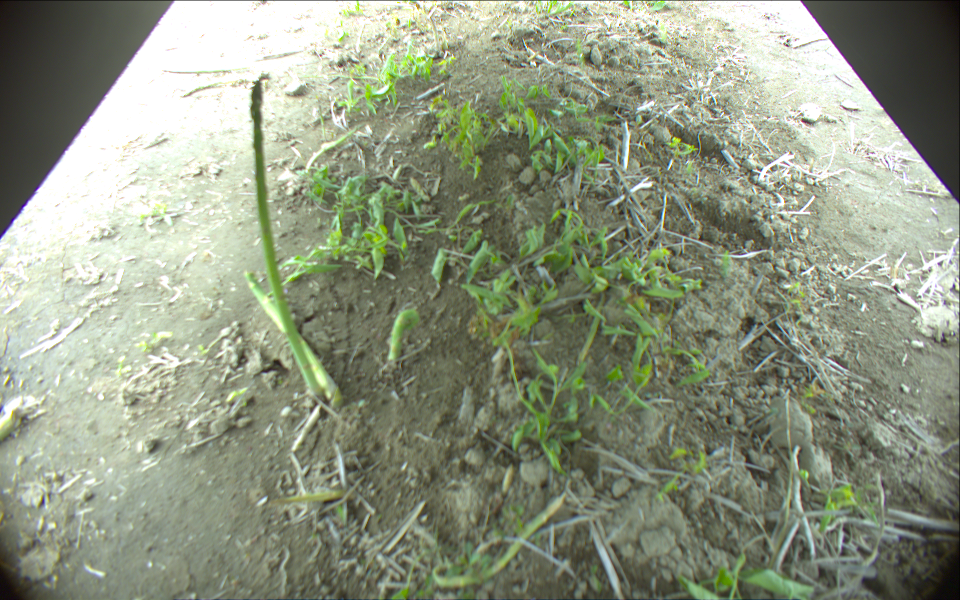aspa: (247, 76, 323, 393), (241, 271, 340, 402), (430, 493, 565, 582), (388, 306, 417, 368), (426, 15, 440, 49), (442, 26, 450, 50)
